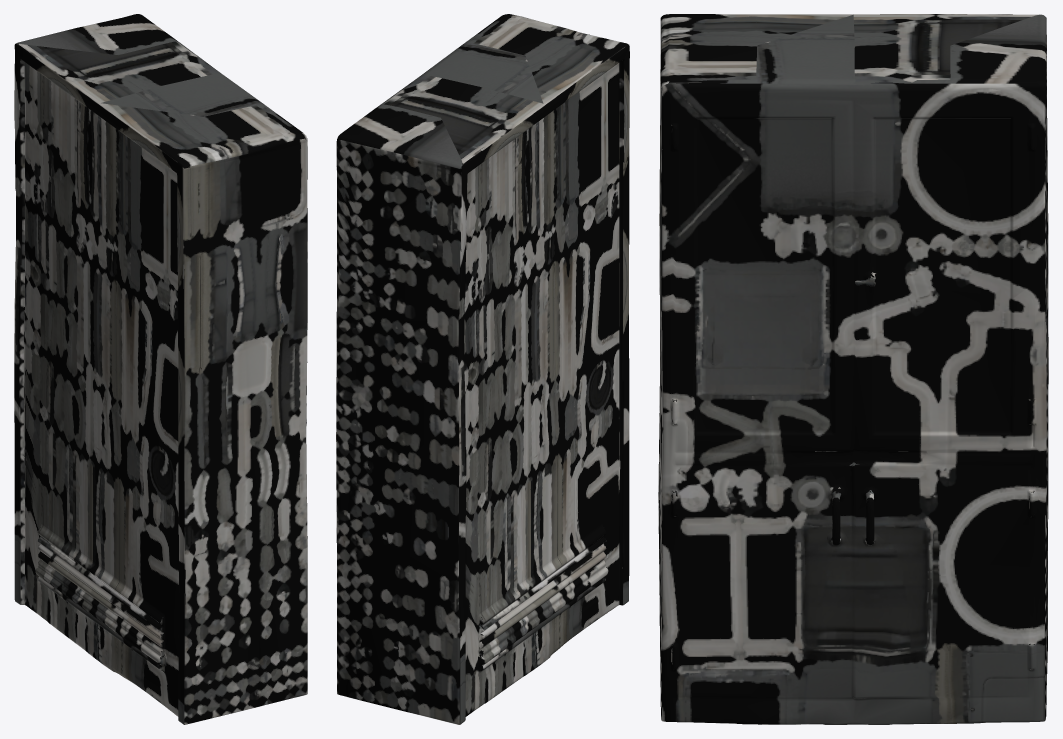
3 renders of one model, left to right at view 1: azimuth 30°, elevation 25°; view 2: azimuth 150°, elevation 25°; view 3: azimuth 270°, elevation 25°, orthographic. The views are drawn at different scales.
Visible parts, largest first — view 1: repaired; view 2: repaired; view 3: repaired.
Part boxes in pixels (box(x1,y1,x2,y2)): repaired: box(14, 14, 307, 724); repaired: box(336, 14, 629, 724); repaired: box(658, 14, 1048, 724).
Bounding box in the file's own units: 0.2584 × 0.9995 × 0.5482.
